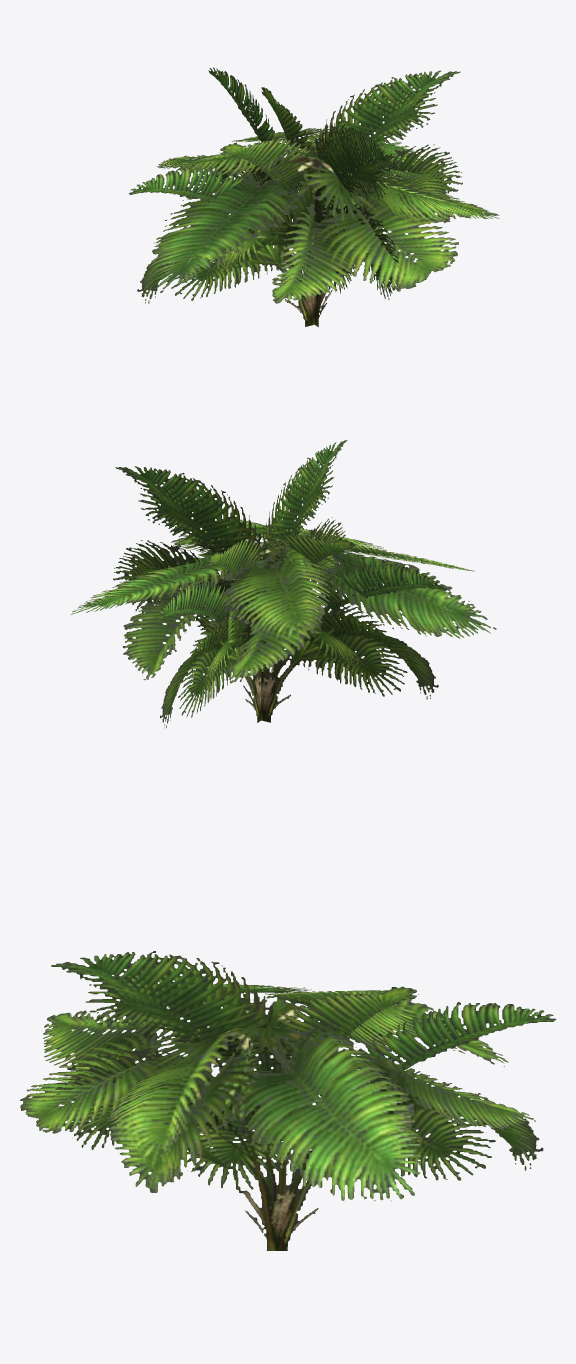
The model's file is tree_003_L.fbx.
3 renders of one model, top to bottom at view 1: azimuth 30°, elevation 25°; view 2: azimuth 150°, elevation 25°; view 3: azimuth 270°, elevation 25°, orthographic. The views are drawn at different scales.
Visible parts, largest first — view 1: t003_2; view 2: t003_2; view 3: t003_2.
Part boxes in pixels (x1,y1,x2,y2): t003_2: (129,67,499,327); t003_2: (71,440,496,728); t003_2: (20,951,556,1250).
Bounding box in the file's own units: 3.33 × 2.07 × 3.39.
Materials: 1 (1 with a texture image).
